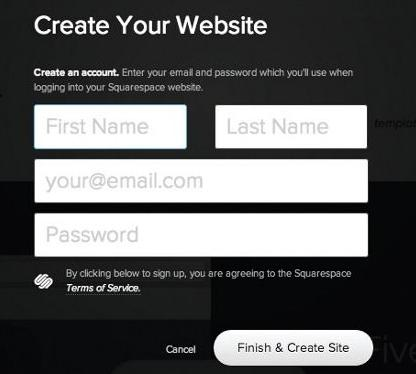button: (211, 329, 374, 367)
field: (32, 212, 369, 258), (32, 158, 368, 204), (33, 104, 188, 150), (214, 105, 367, 149)
